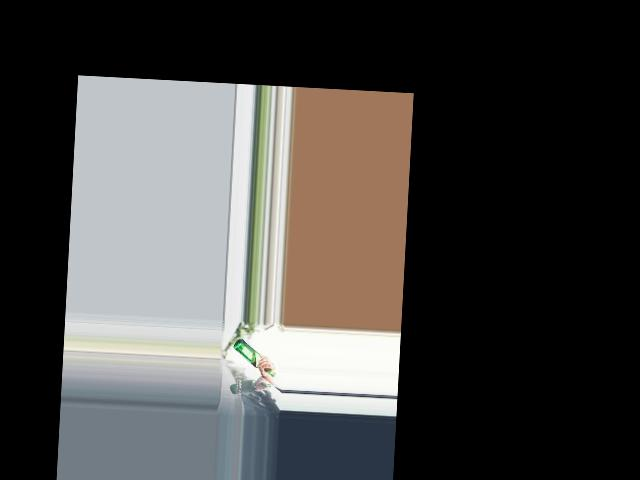beer: (231, 338, 276, 377)
